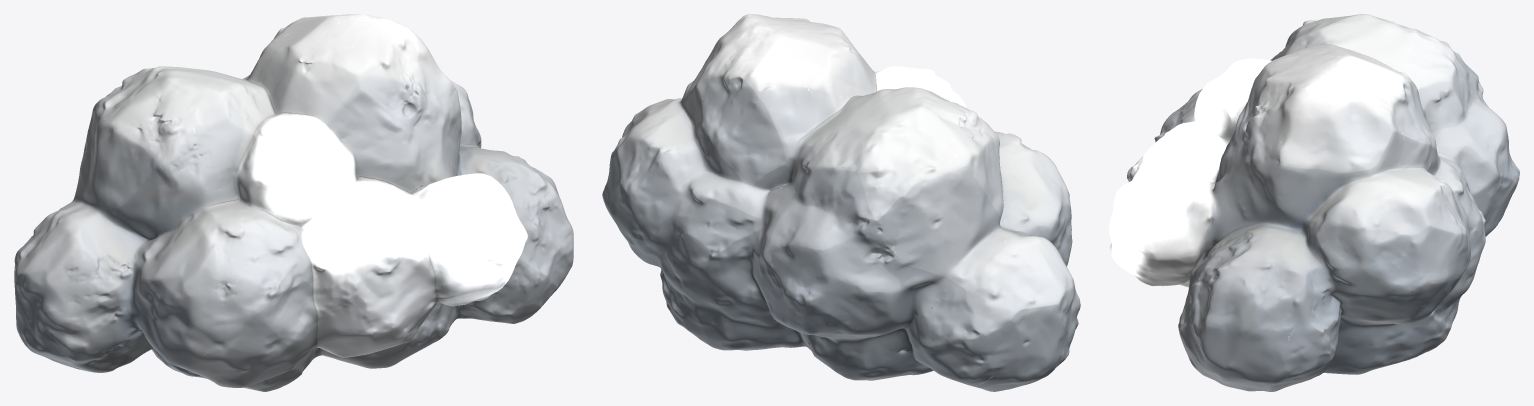
The model's file is MSB-Cloud.glb.
The picture shows the model from 3 angles, left to right: view 1: azimuth 30°, elevation 25°; view 2: azimuth 150°, elevation 25°; view 3: azimuth 270°, elevation 25°; orthographic projection. The views are drawn at different scales.
Size of the model in its own units: 1.9 by 1.22 by 1.47.
Materials: 1 (1 with a texture image).
